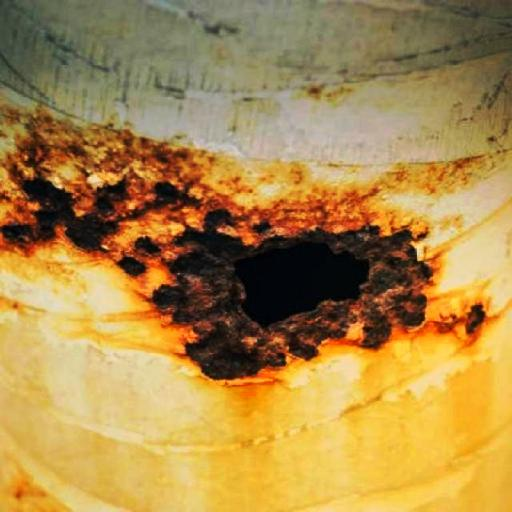corrosion: (0, 117, 438, 379)
